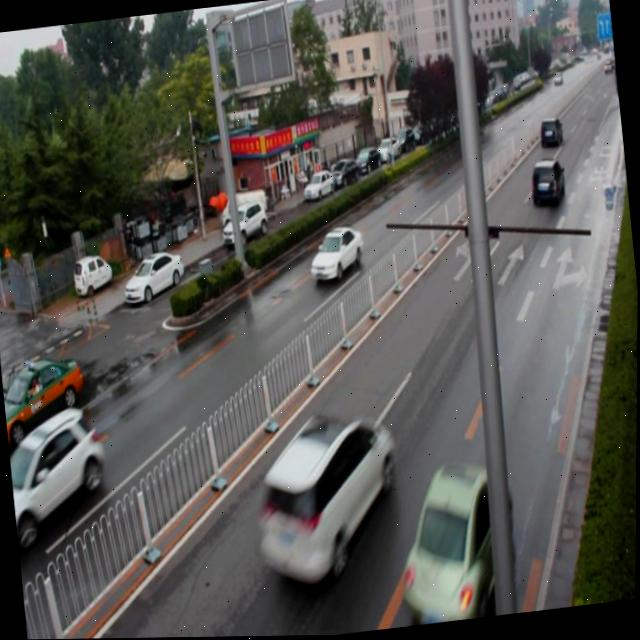car: (247, 406, 409, 596), (394, 458, 525, 627), (5, 404, 112, 553), (305, 221, 366, 293)
truck: (525, 158, 566, 205), (538, 117, 562, 151)
